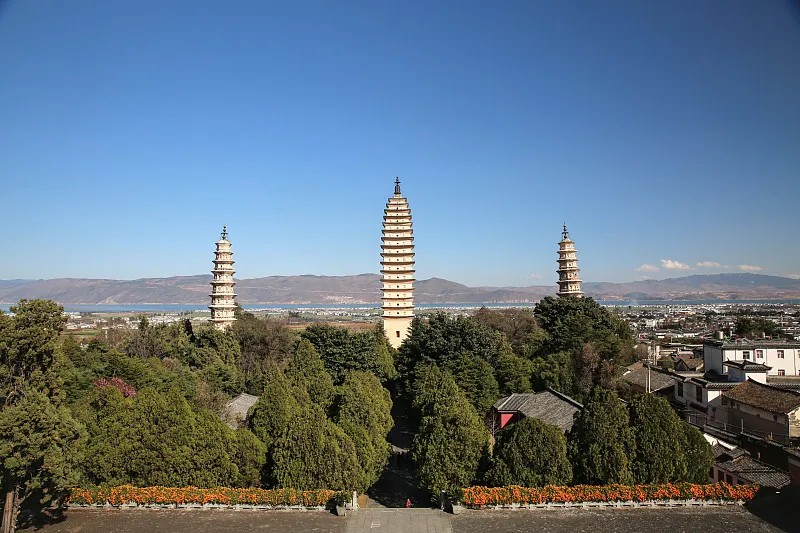ThreePagoda: (380, 177, 416, 350)
